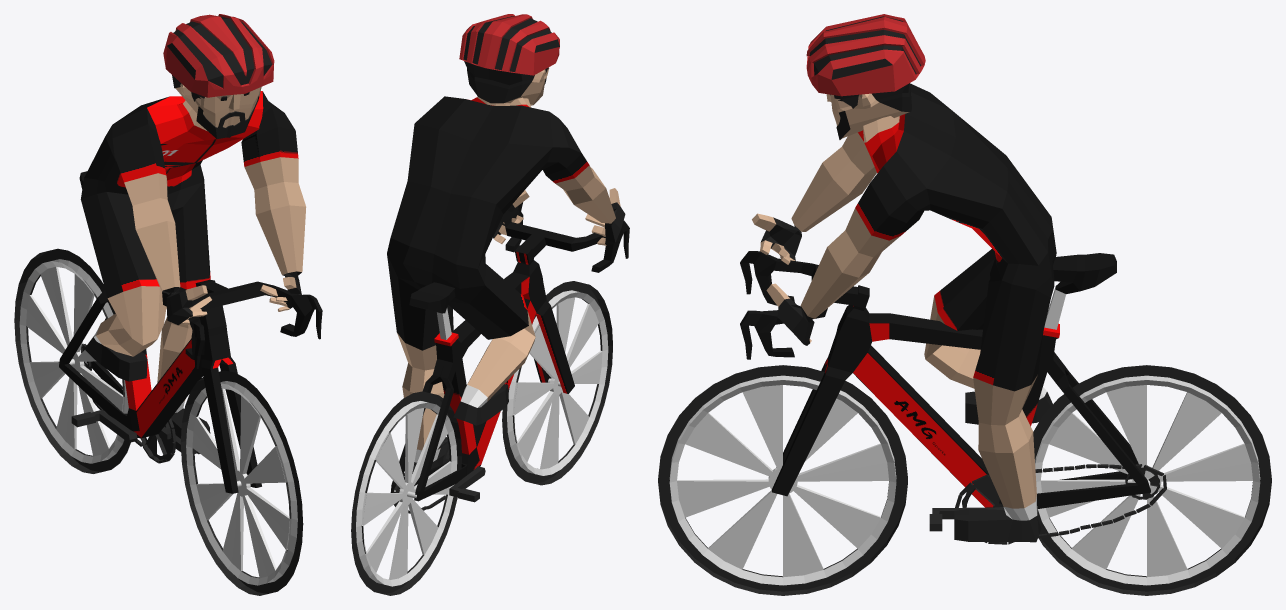
File: cyclingv1.glb
The picture shows the model from 3 angles, left to right: view 1: azimuth 30°, elevation 25°; view 2: azimuth 150°, elevation 25°; view 3: azimuth 270°, elevation 25°; orthographic projection. The views are drawn at different scales.
Visible parts, largest first — view 1: Cube.022, Circle.004; view 2: Cube.022, Circle.004; view 3: Circle.004, Cube.022.
Boxes of the visible parts, left/top/right/bottom form: Cube.022: left=80, top=14, right=306, bottom=438; Circle.004: left=14, top=171, right=322, bottom=595; Cube.022: left=387, top=14, right=625, bottom=473; Circle.004: left=351, top=202, right=629, bottom=595; Circle.004: left=658, top=251, right=1271, bottom=595; Cube.022: left=752, top=14, right=1056, bottom=542.
Bounding box in the file's own units: 2.76 × 7.7 × 7.36.
Materials: 8 (2 with a texture image).
